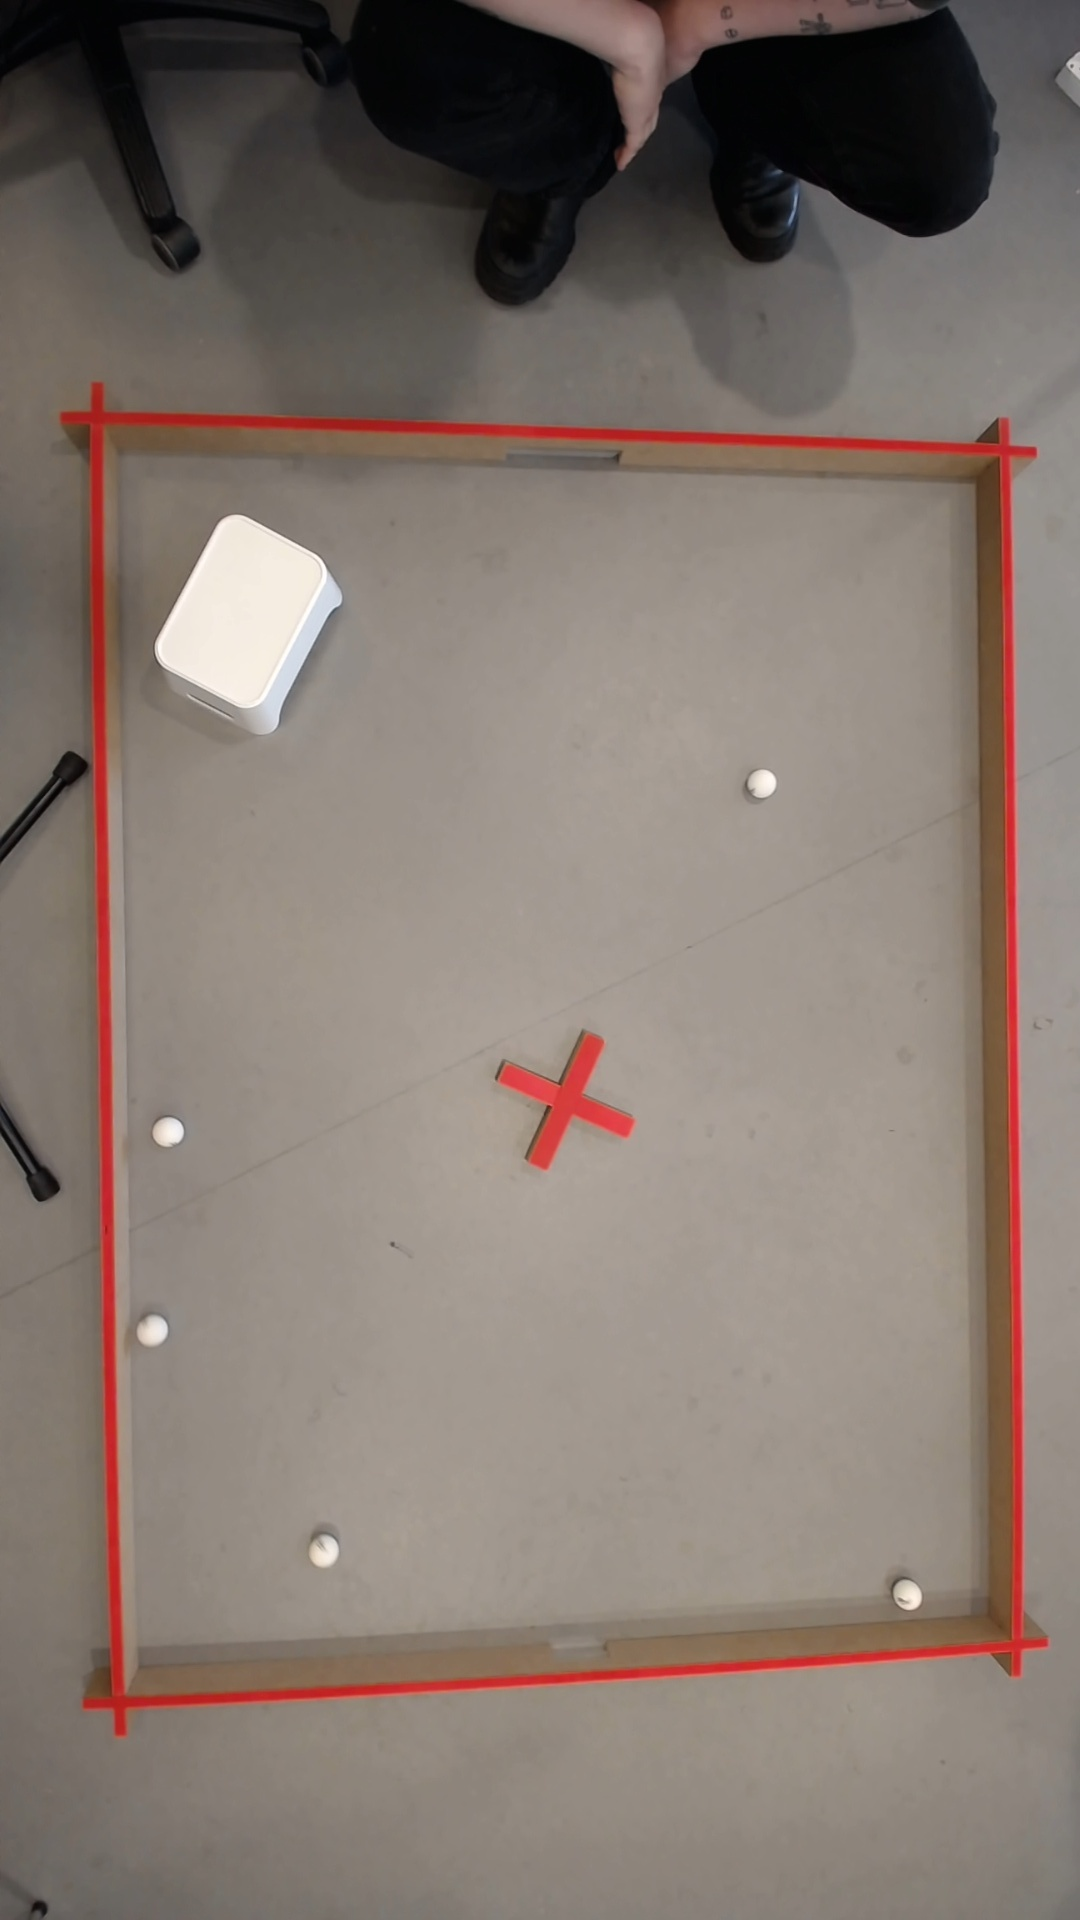balls: (144, 505, 356, 729), (305, 1532, 345, 1572), (133, 1311, 173, 1350), (149, 1113, 187, 1151)
car: (745, 764, 781, 800)
